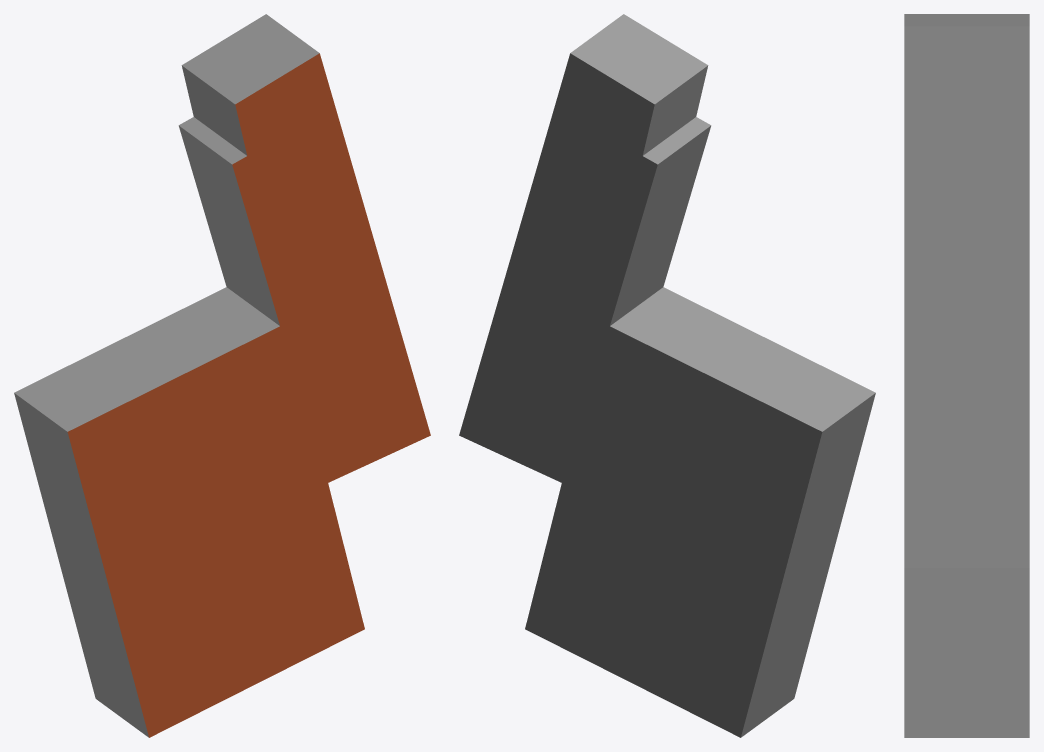
The model's file is construction_2726_assumed_A_Casa_h6m.obj.
3 renders of one model, left to right at view 1: azimuth 30°, elevation 25°; view 2: azimuth 150°, elevation 25°; view 3: azimuth 270°, elevation 25°, orthographic. The views are drawn at different scales.
Visible parts, largest first — view 1: construction_2726_assumed_A_Casa; view 2: construction_2726_assumed_A_Casa; view 3: construction_2726_assumed_A_Casa.
Part boxes in pixels (bbox=[...]): construction_2726_assumed_A_Casa: bbox=[14, 14, 430, 737]; construction_2726_assumed_A_Casa: bbox=[459, 14, 875, 737]; construction_2726_assumed_A_Casa: bbox=[904, 14, 1029, 737].
Size of the model in its own units: 23.5 by 39.75 by 6.
